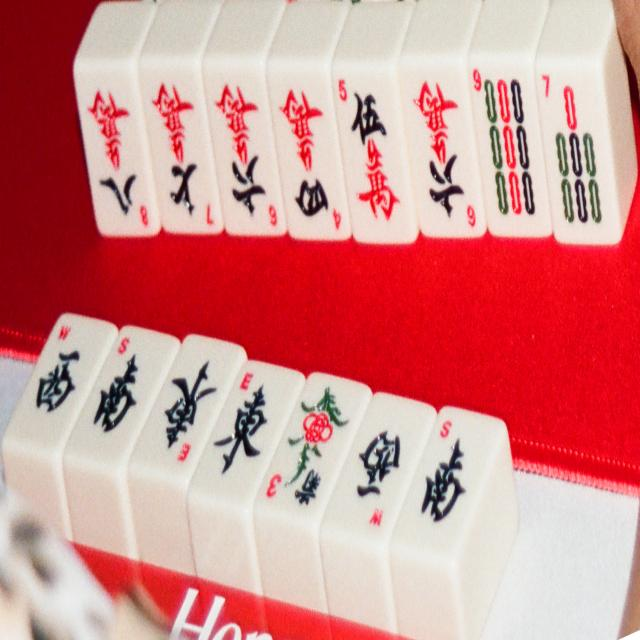east: (214, 365, 269, 493), (162, 341, 216, 468)
f3: (267, 387, 353, 506)
m4: (277, 75, 342, 235)
m5: (338, 74, 408, 242)
m6: (210, 71, 278, 232), (408, 74, 476, 234)
m7: (152, 69, 214, 233)
m8: (83, 79, 150, 233)
s7: (540, 69, 606, 235)
s9: (472, 64, 537, 232)
south: (416, 414, 471, 536), (90, 332, 142, 452)
west: (27, 322, 85, 449), (352, 420, 411, 537)
